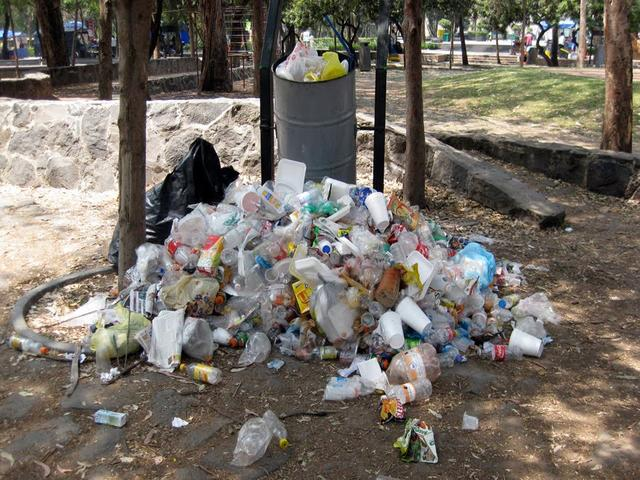garbage: (174, 215, 448, 350)
